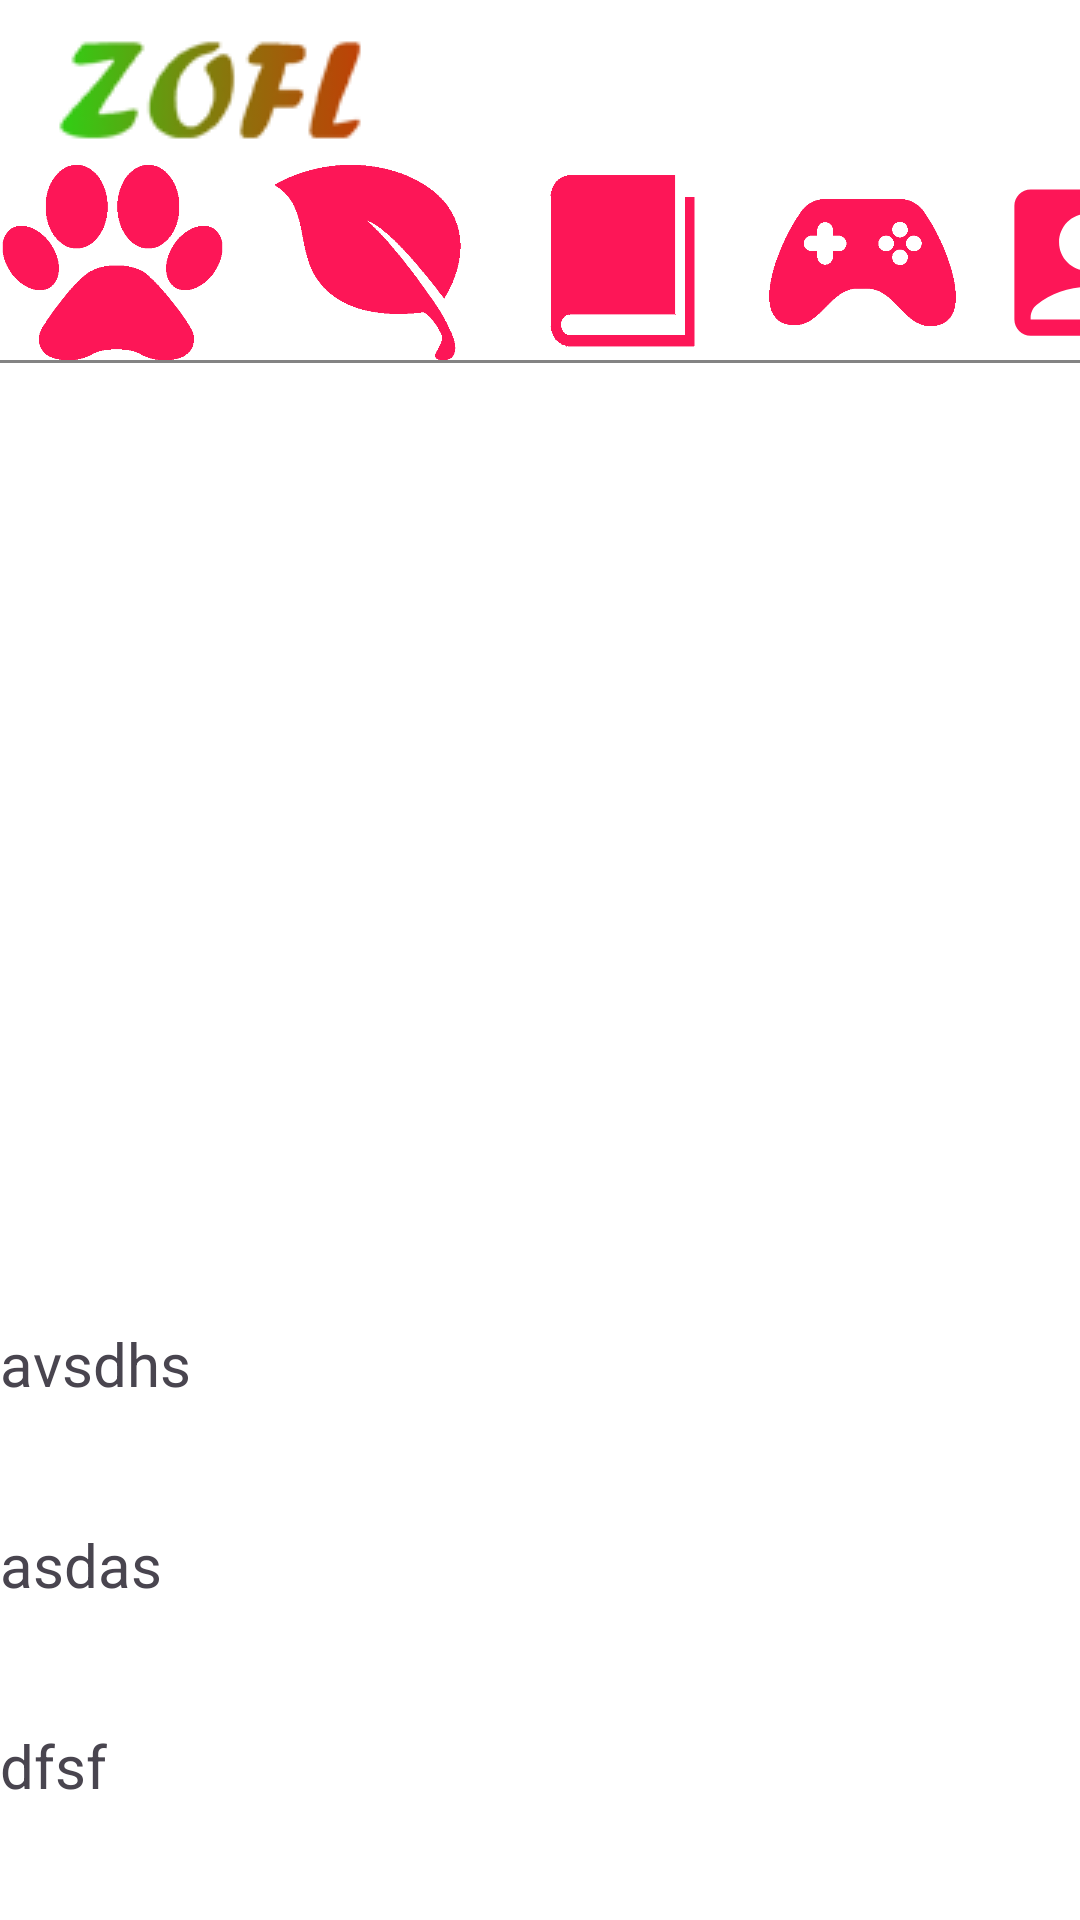

Where to tap for icons on this 1080×1920 app screen, as (x,y):
bookred: (622,261)
gamered: (862,262)
leafred: (368,262)
